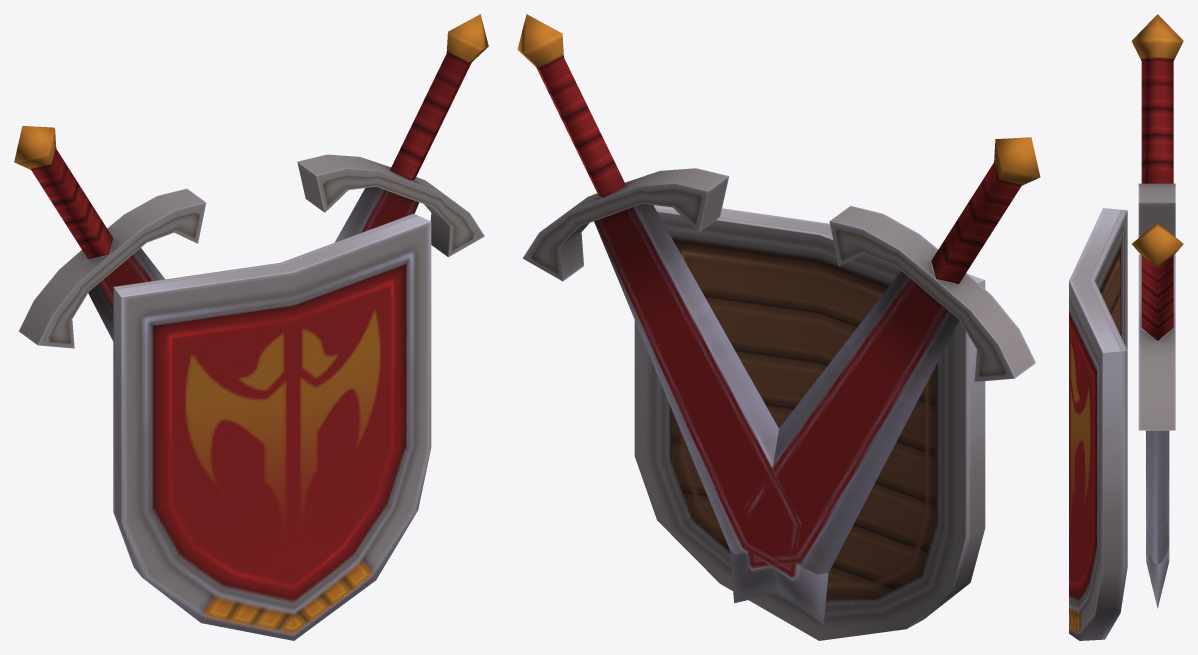
The model's file is Barrack_Shield.FBX.
The picture shows the model from 3 angles, left to right: view 1: azimuth 30°, elevation 25°; view 2: azimuth 150°, elevation 25°; view 3: azimuth 270°, elevation 25°; orthographic projection. The views are drawn at different scales.
Visible parts, largest first — view 1: Barrack_Shield; view 2: Barrack_Shield; view 3: Barrack_Shield.
Boxes of the visible parts, x1=… form: Barrack_Shield: x1=14, y1=14, x2=488, y2=640; Barrack_Shield: x1=517, y1=14, x2=1040, y2=640; Barrack_Shield: x1=1069, y1=14, x2=1183, y2=640.
Bounding box in the file's own units: 33.33 × 35.98 × 7.28.
